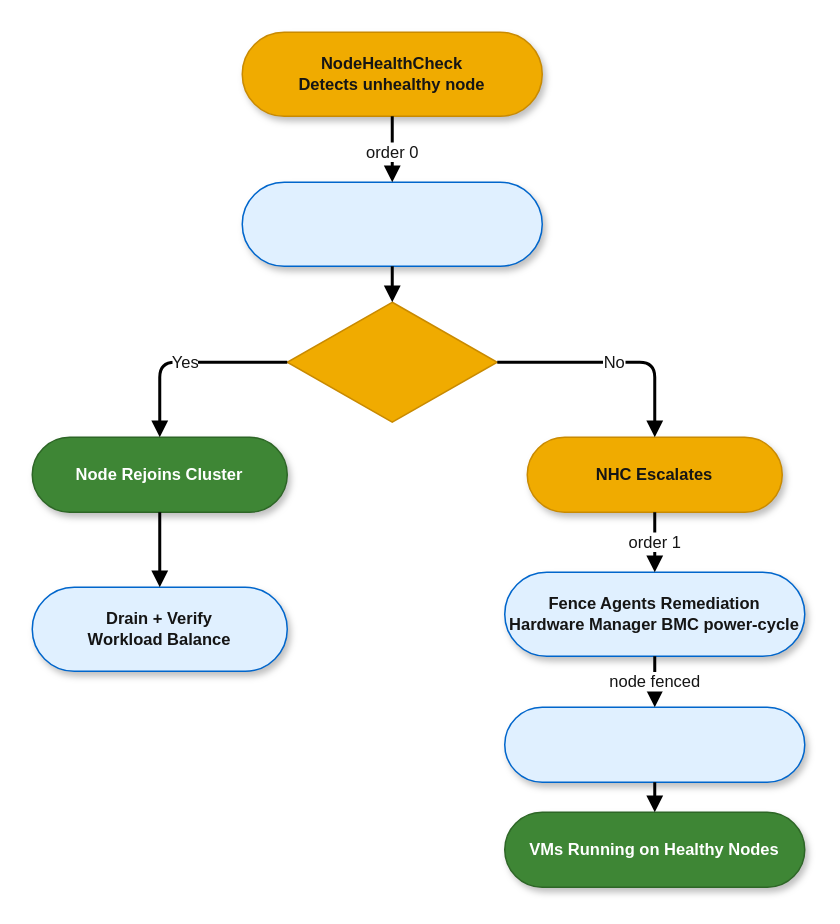
Some shapes in this 840 by 924 pixel diagram are drawn without their labels. The centre of each missing label's shape, as x and y in pixels:
"Node recovered within timeout?" belongs at pixel 391 361.
"Self Node Remediation Software reboot via watchdog" belongs at pixel 393 226.
"VMs Rescheduled by KubeVirt" belongs at pixel 655 746.
